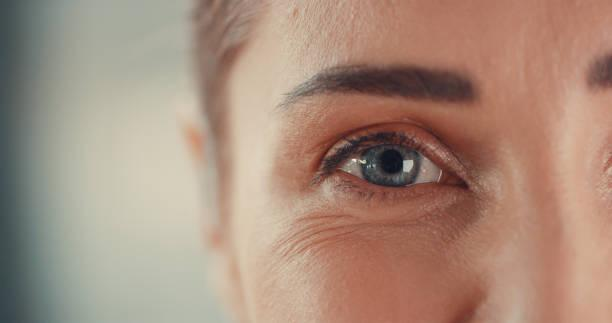Dry-Skin: (263, 187, 446, 318)
